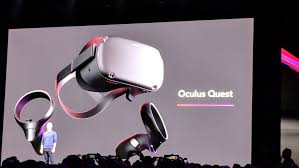oculus: (75, 37, 167, 98)
